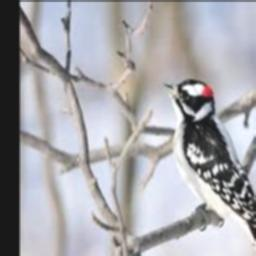Woodpecker: (160, 79, 256, 256)
